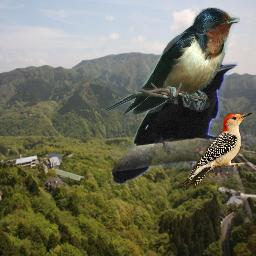Crow: (111, 60, 238, 185)
Swallow: (103, 7, 240, 115)
Woodpecker: (180, 112, 252, 189)
